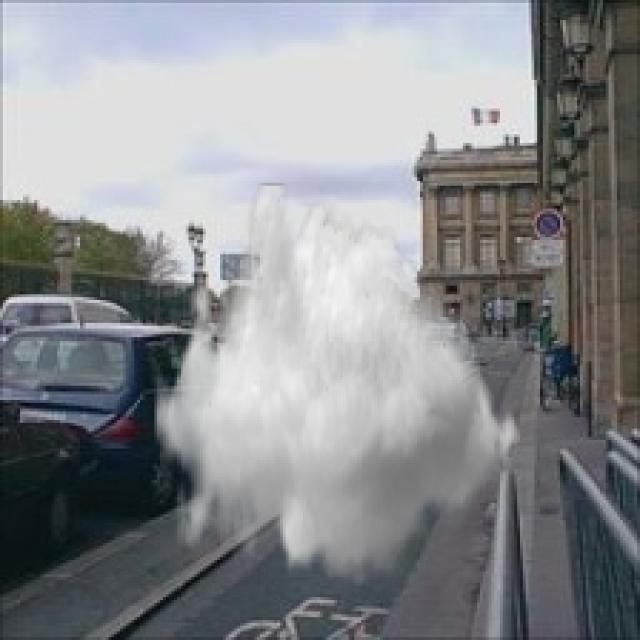Smoke: (154, 183, 529, 586)
